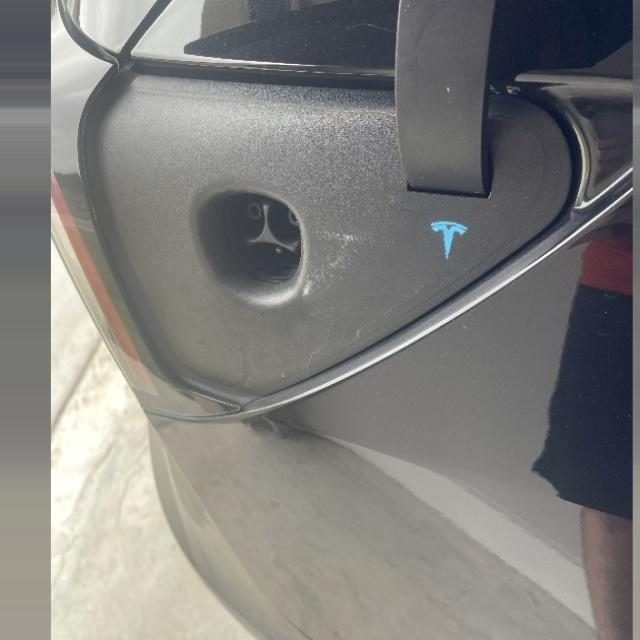Tesla Model-S-: (172, 172, 334, 332)
